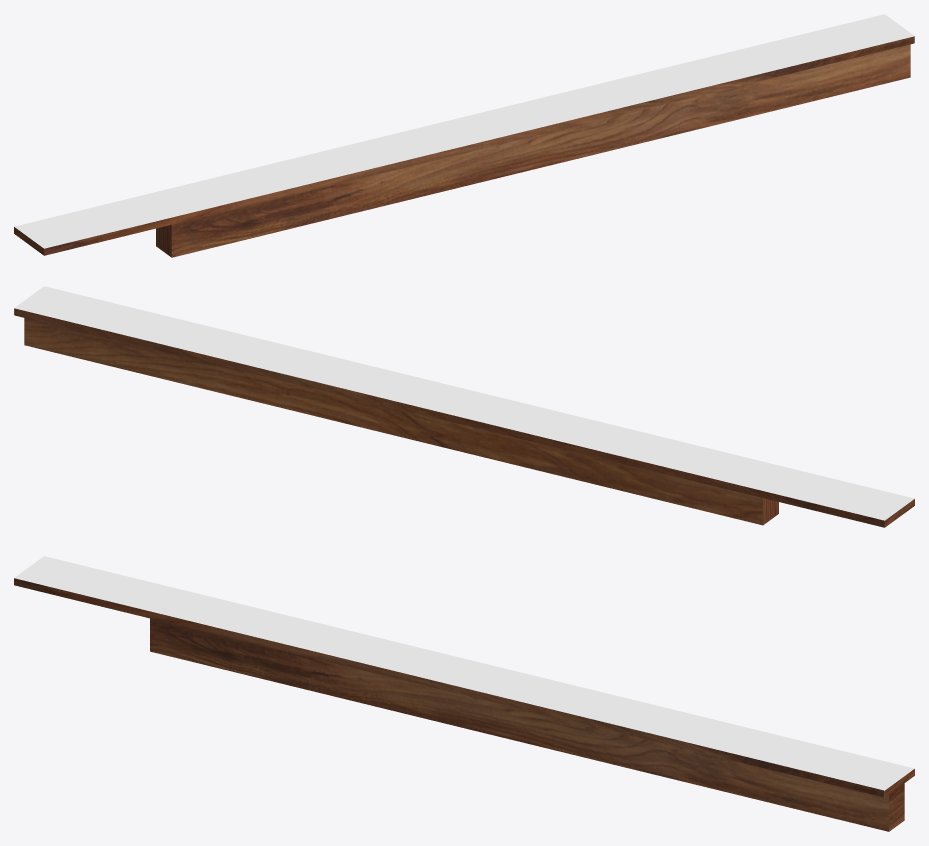
File: mostrador.fbx
3 renders of one model, top to bottom at view 1: azimuth 30°, elevation 25°; view 2: azimuth 150°, elevation 25°; view 3: azimuth 330°, elevation 25°, orthographic.
Visible parts, largest first — view 1: Mostrador; view 2: Mostrador; view 3: Mostrador.
Boxes of the visible parts, <box> form: Mostrador: <box>14,14,914,257</box>; Mostrador: <box>14,286,914,527</box>; Mostrador: <box>14,556,914,831</box>.
Size of the model in its own units: 1713 by 83.43 by 103.
1 material, 1 textured.
